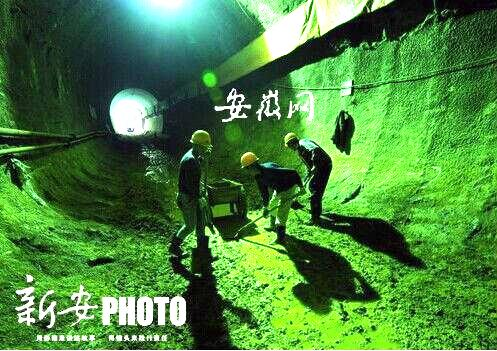helmet: (189, 129, 213, 158), (239, 151, 260, 176), (283, 132, 299, 150)
